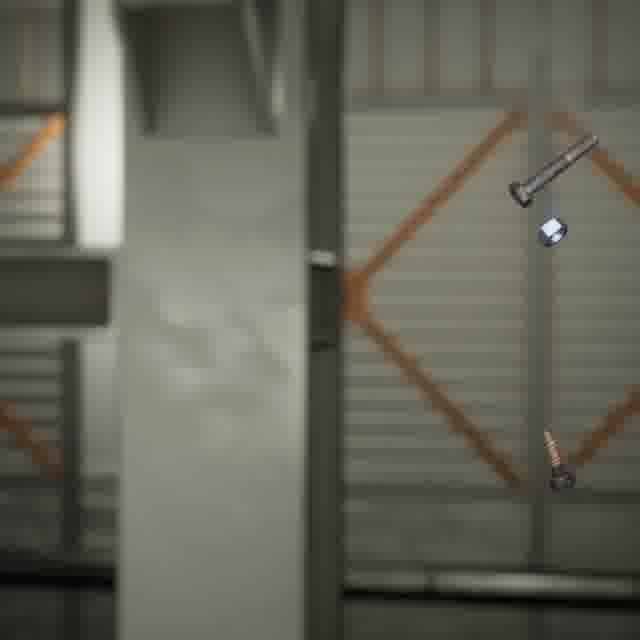bolt: (504, 128, 603, 212), (536, 425, 579, 496)
nut: (531, 213, 573, 251)
